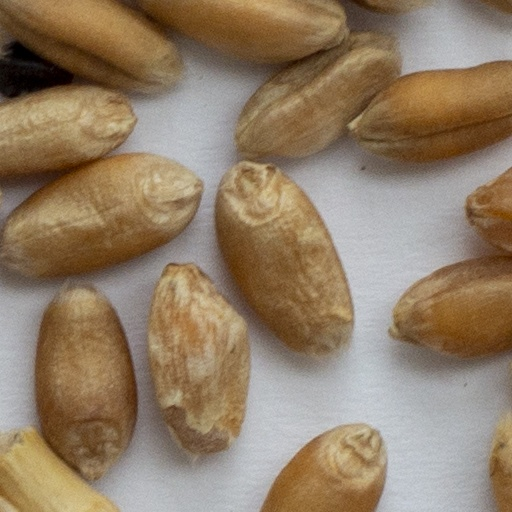Fallopia-Convolvulus-poly: (0, 55, 71, 95)
Peel-poly: (0, 432, 115, 511)
